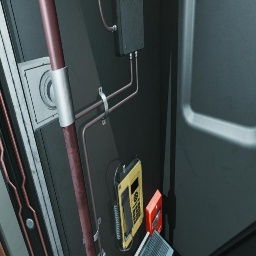EmergencyPhone ,: (113, 153, 144, 252)
FireAlarm ,: (146, 189, 162, 242)
